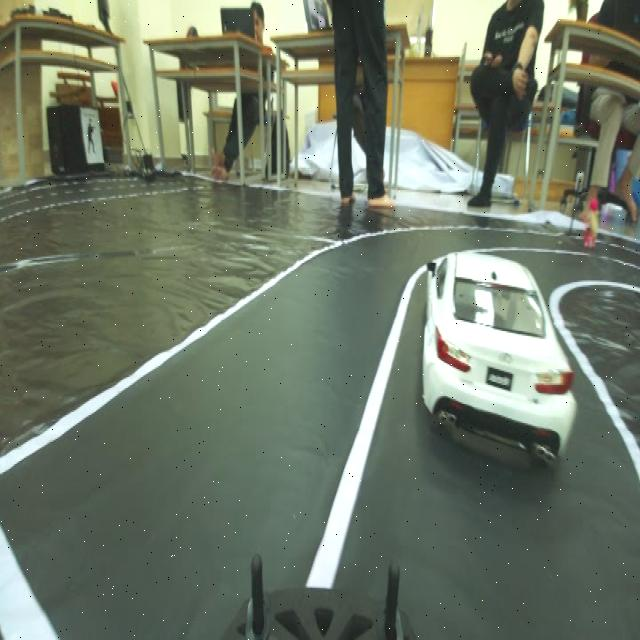car: (415, 231, 573, 476)
